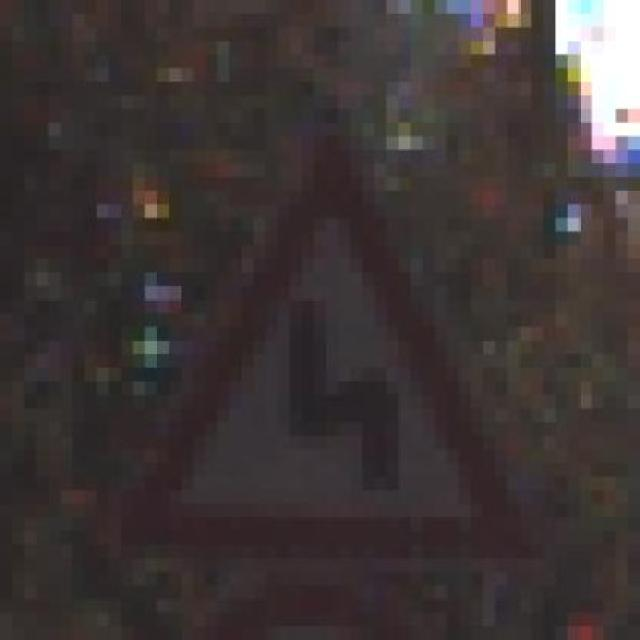Left Zig Zag Traffic: (85, 110, 543, 572)
